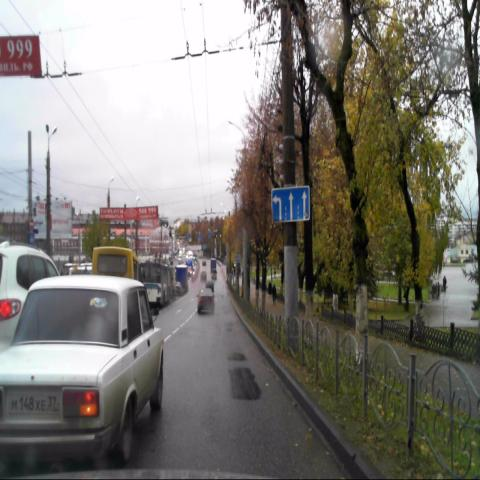5_15_1: (272, 186, 310, 222)
